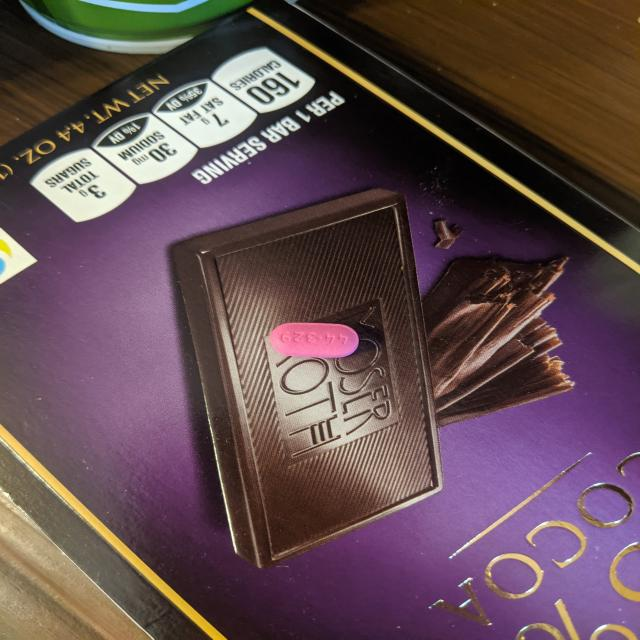non-organic waste: (268, 321, 360, 358)
